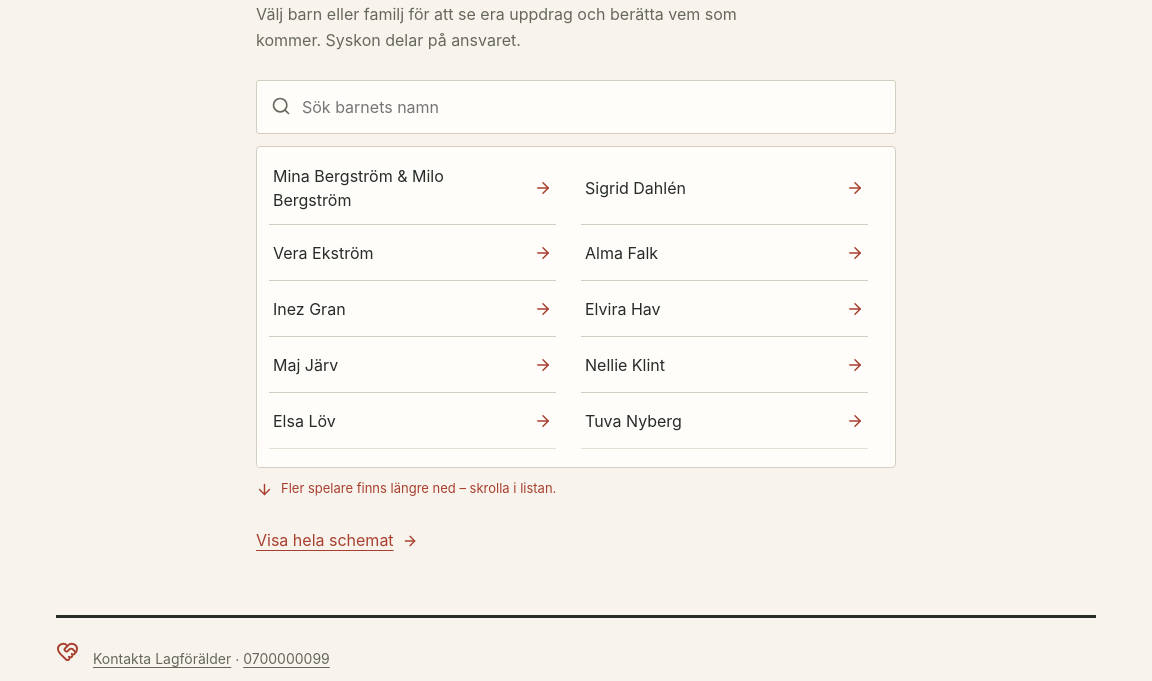
Test: offers retry after a failed lookup instead of displaying an outdated recipient
(page scrolled)
Step 1. Click the button "Kontakta Lagförälder" → (162, 659), box [93,637,231,680]
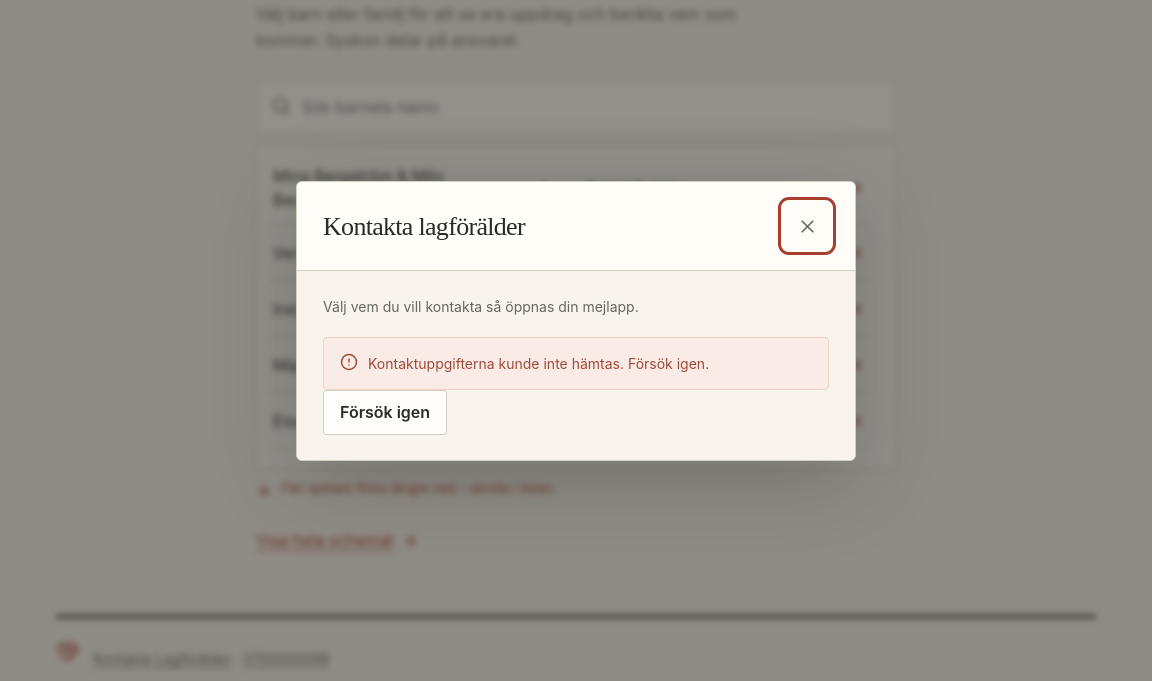
Now the message "Kontaktuppgifterna kunde inte hämtas. Försök igen." is shown, box [323,337,829,390]
Step 2. Click the button "Försök igen" → (385, 412), box [323,390,447,435]
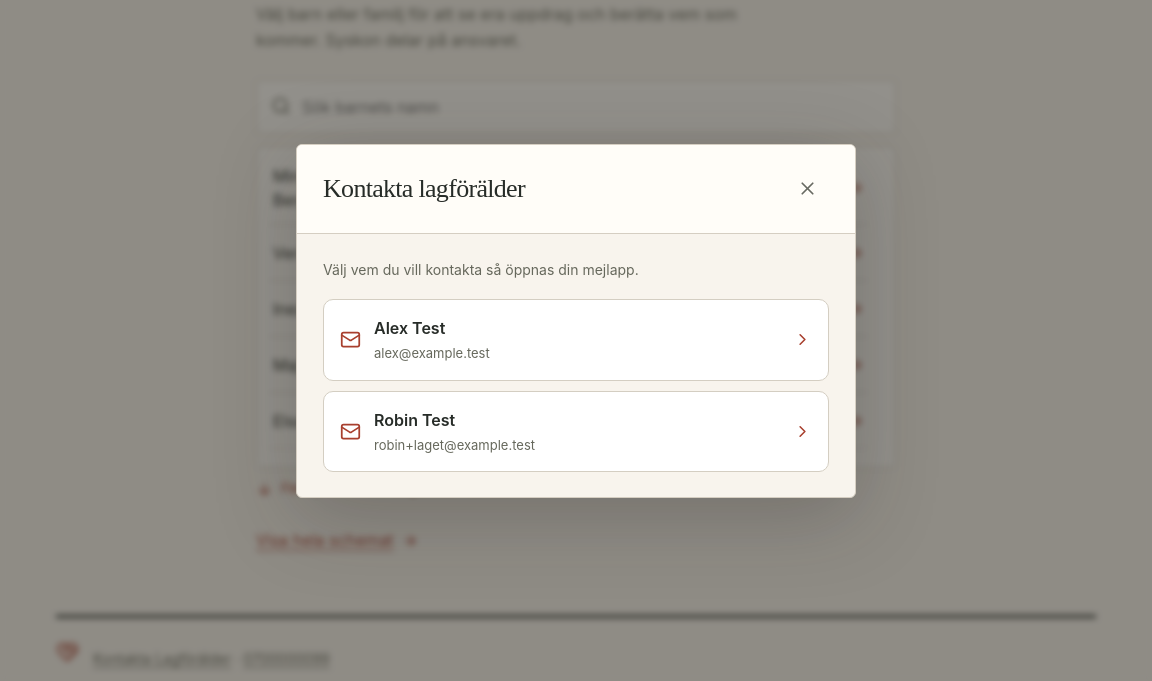
Now the text "Alex Test" is shown, box [374,318,445,338]
Now the message "Kontaktuppgifterna kunde inte hämtas. Försök igen." is gone
